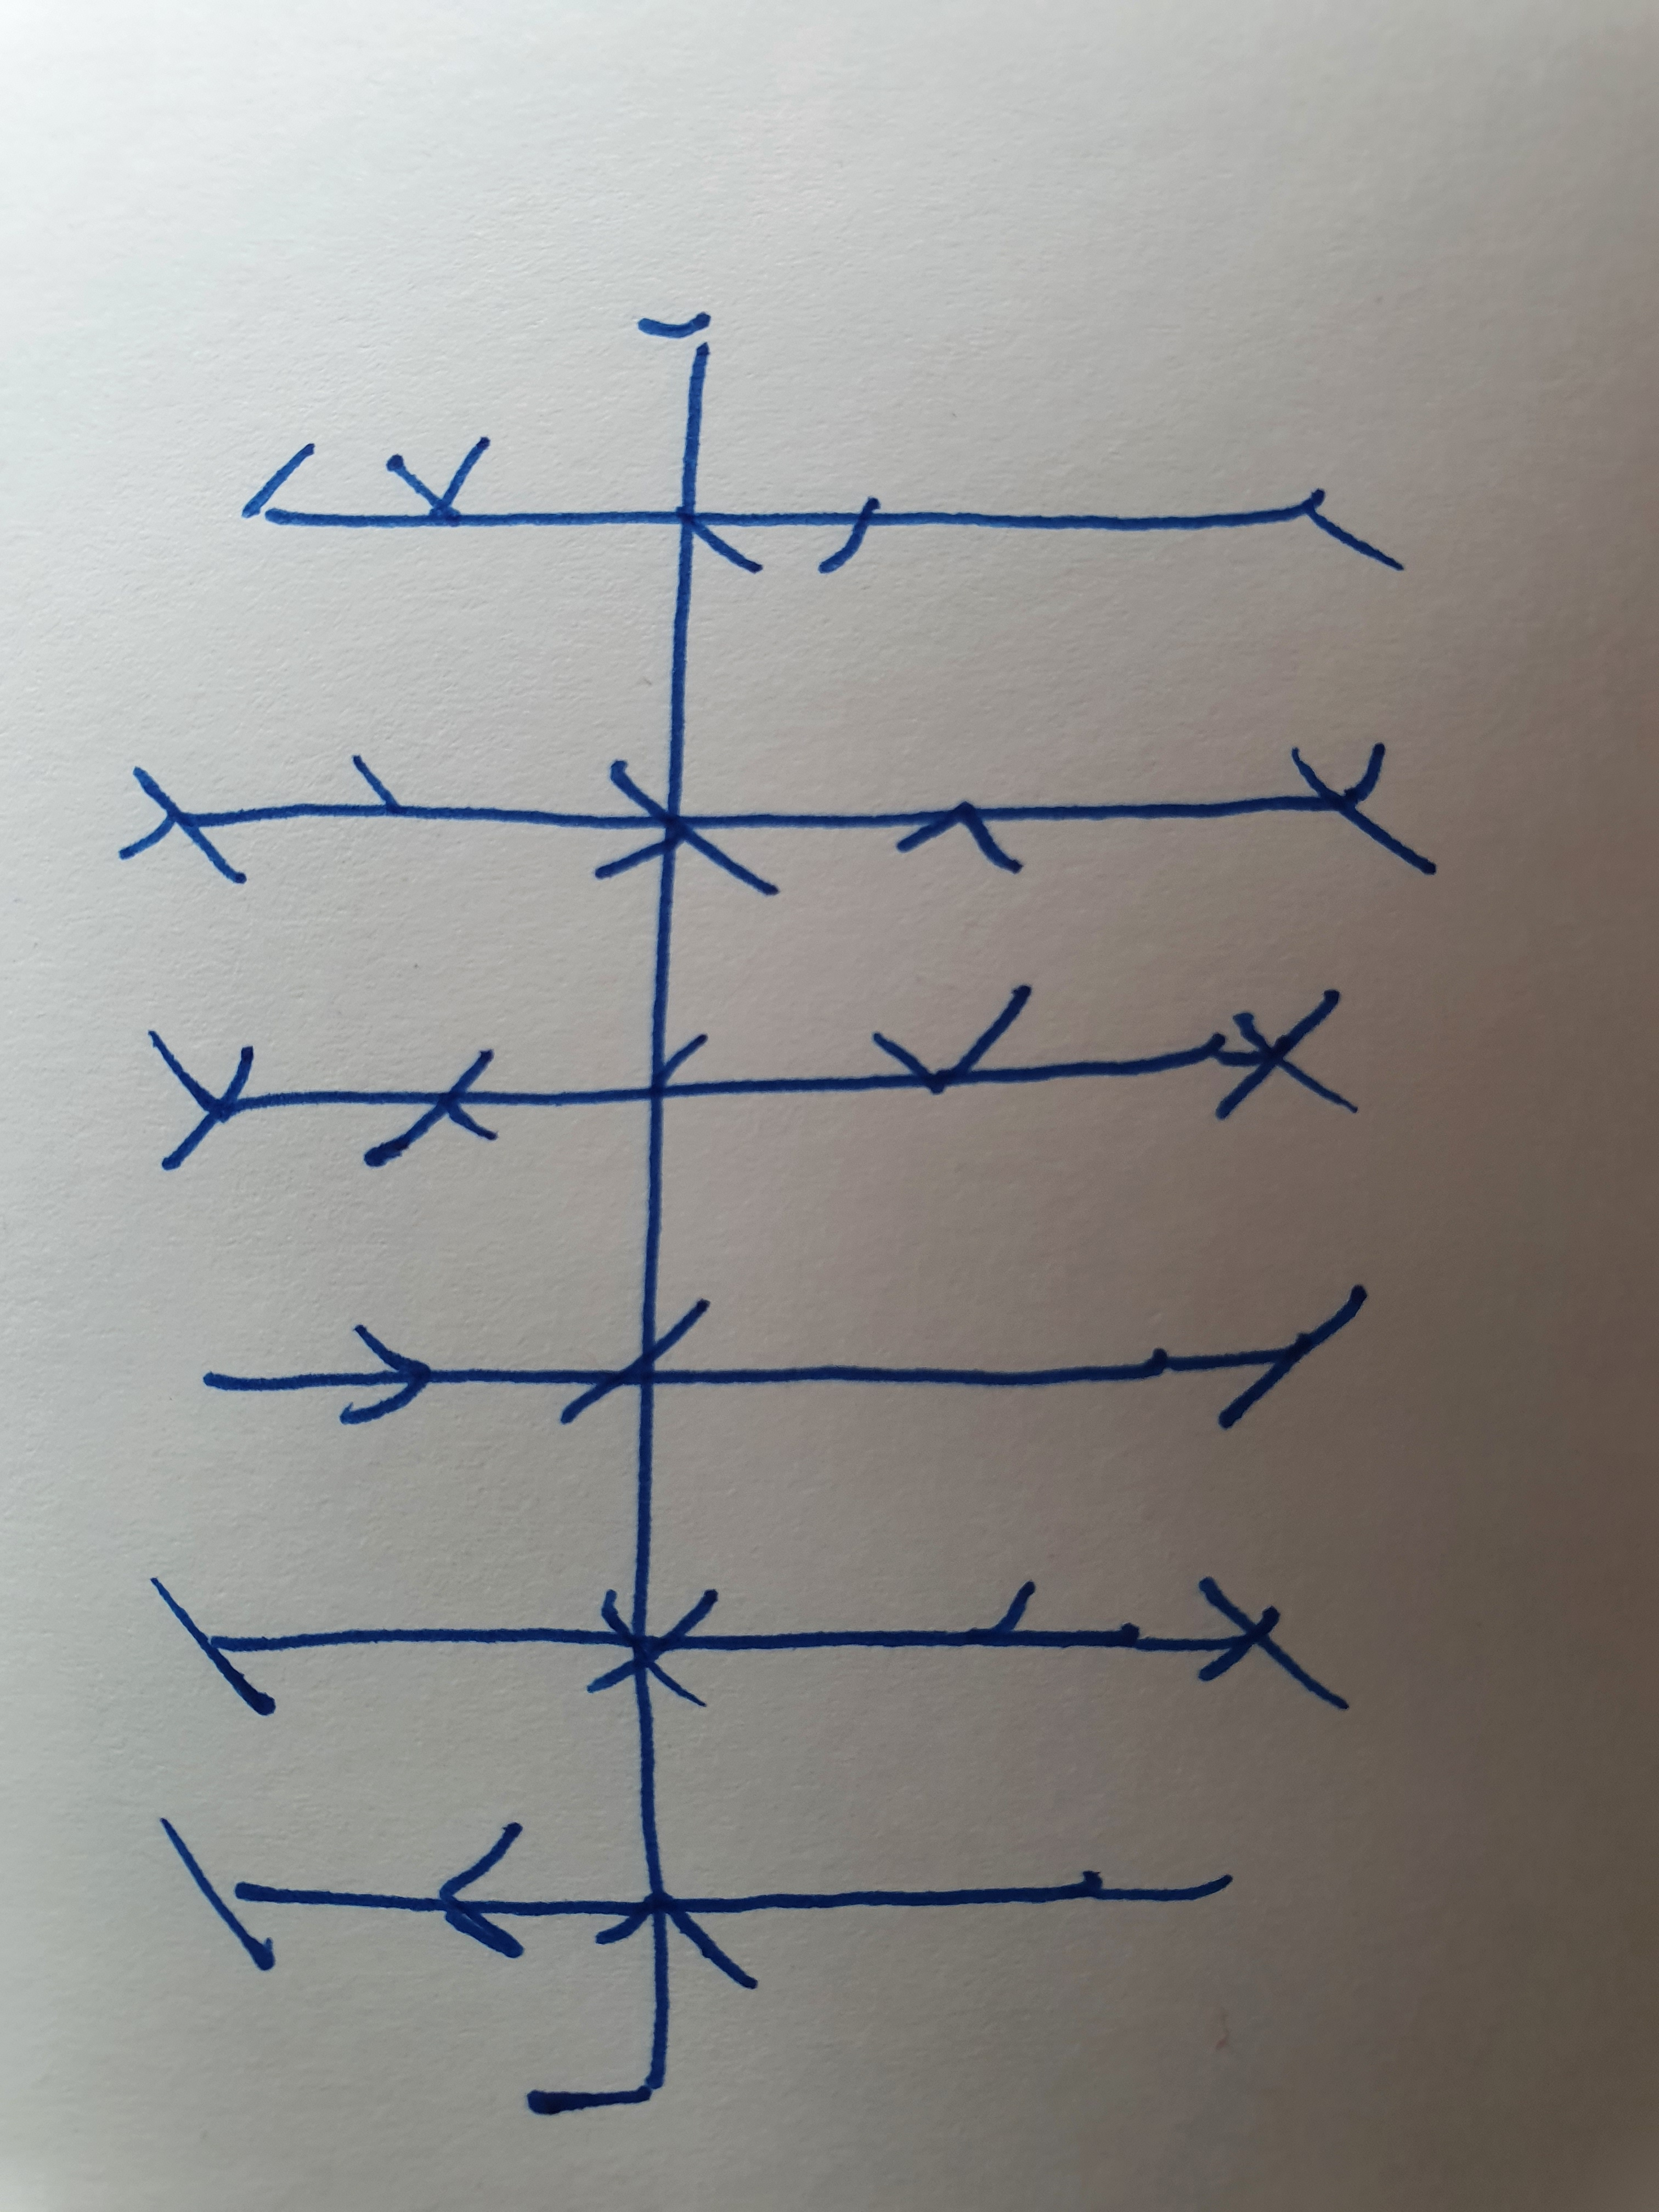Bar: (148, 986, 1358, 1170), (119, 740, 1436, 888), (159, 1813, 1232, 1987), (204, 1284, 1370, 1428), (148, 1580, 1349, 1714), (242, 441, 1405, 573)
Barcode: (119, 308, 1436, 2118)
End: (638, 310, 713, 507)
Start: (526, 1947, 676, 2118)
